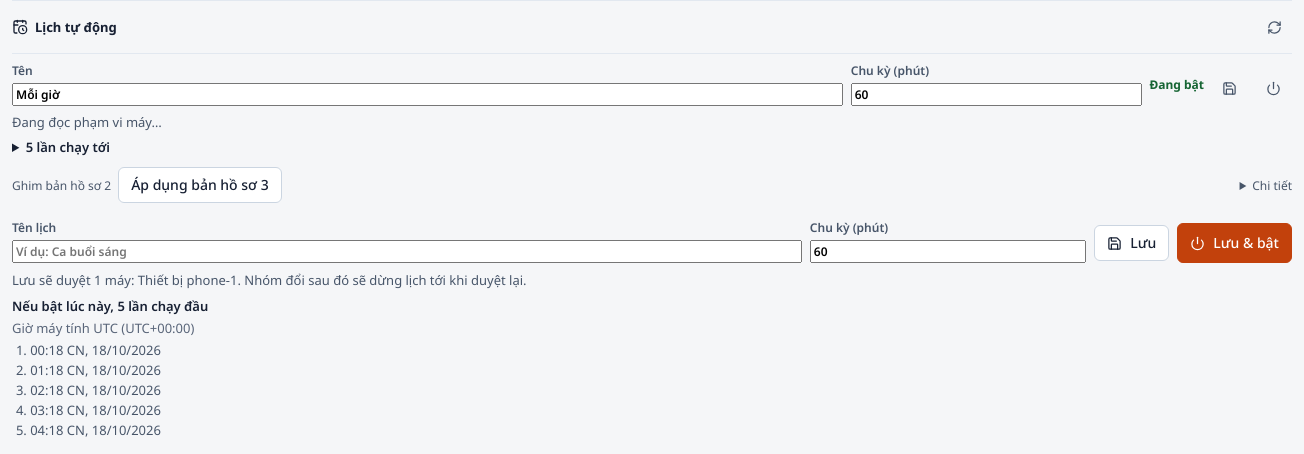
Test: AutomationScheduleControl › enables and disables with the current schedule CAS revision
Click the button named "Tắt lịch Mỗi giờ": coordinates (1274, 88) [1256,70,1292,106]
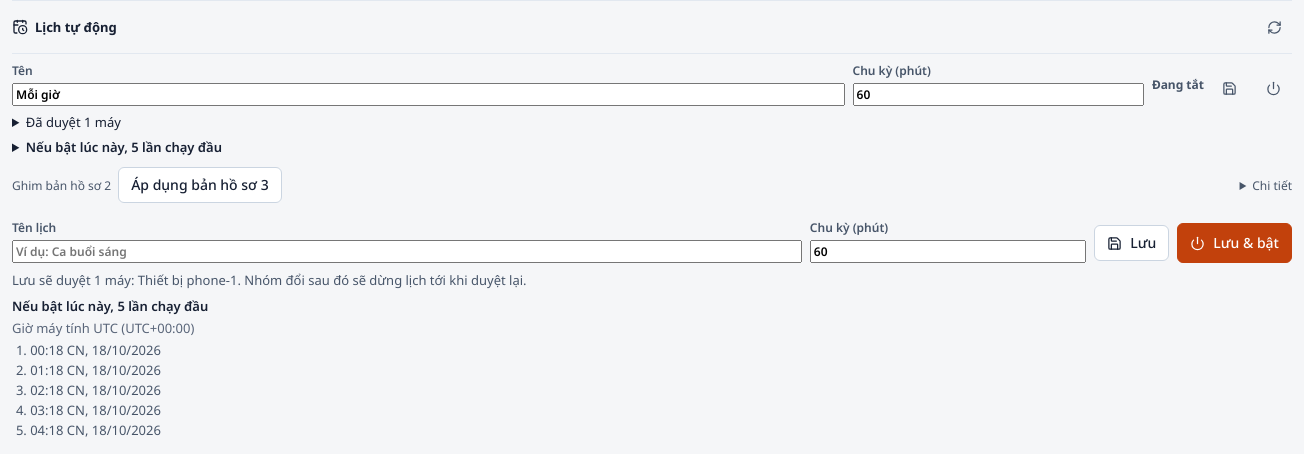
Expected: the text "Đang tắt" is shown, [1152,76,1204,92]
